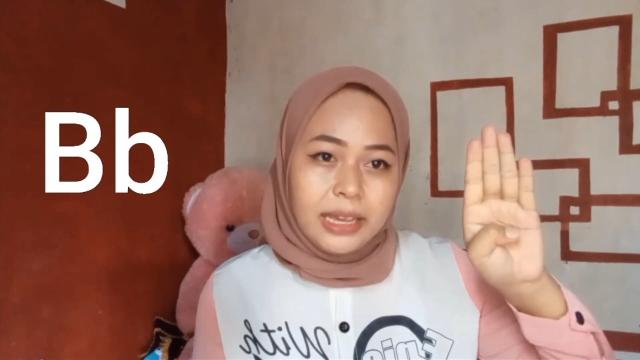B: (464, 123, 546, 285)
